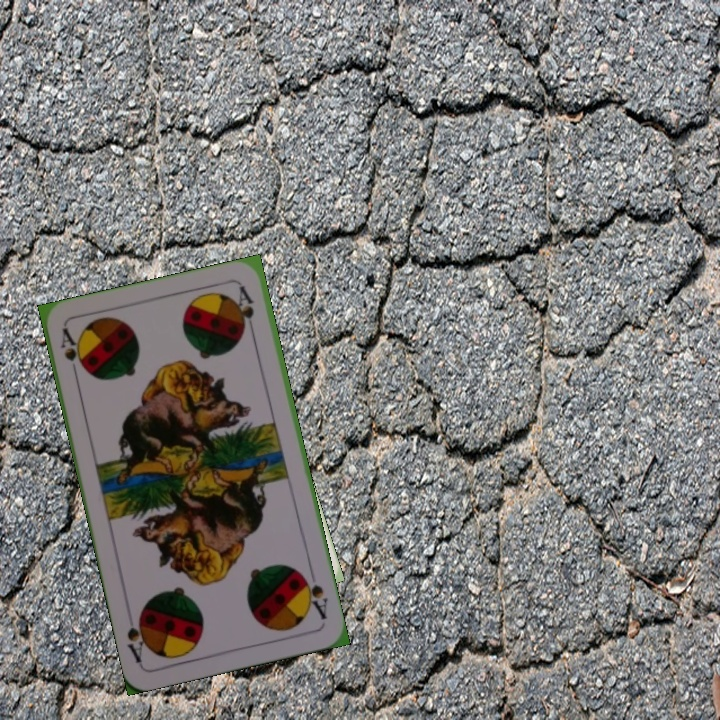SA: (56, 324, 88, 383), (297, 568, 330, 622)
